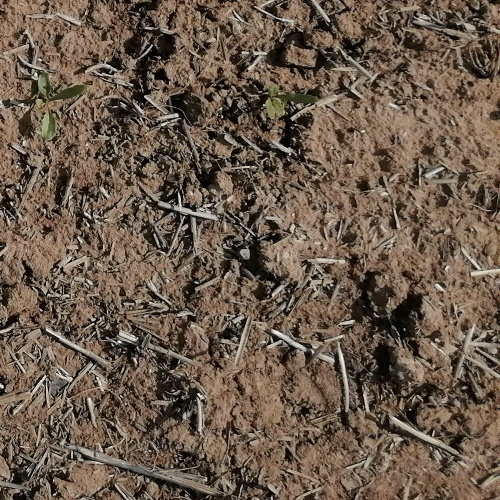beet: (24, 71, 87, 141), (264, 83, 317, 120)
